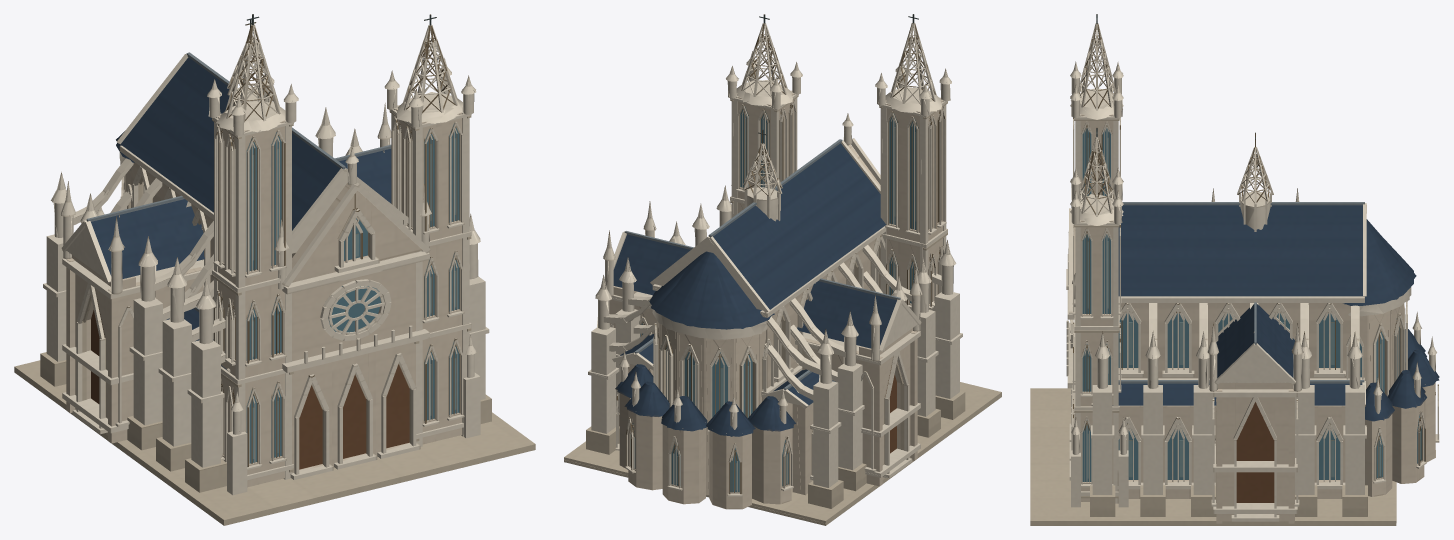
File: cathedrale.glb
The picture shows the model from 3 angles, left to right: view 1: azimuth 30°, elevation 25°; view 2: azimuth 150°, elevation 25°; view 3: azimuth 270°, elevation 25°; orthographic projection. The views are drawn at different scales.
Visible parts, largest first — view 1: cathedrale_paris_mesh, cathedrale_paris_distant_mesh; view 2: cathedrale_paris_mesh, cathedrale_paris_distant_mesh; view 3: cathedrale_paris_mesh, cathedrale_paris_distant_mesh.
Boxes of the visible parts, bbox=[...] form: cathedrale_paris_mesh: bbox=[14, 14, 535, 525]; cathedrale_paris_distant_mesh: bbox=[41, 15, 528, 525]; cathedrale_paris_mesh: bbox=[564, 14, 1001, 525]; cathedrale_paris_distant_mesh: bbox=[564, 14, 964, 523]; cathedrale_paris_mesh: bbox=[1030, 14, 1439, 525]; cathedrale_paris_distant_mesh: bbox=[1070, 14, 1439, 522].
Size of the model in its own units: 2.38 by 3.21 by 2.92.
1 material, 1 textured.
